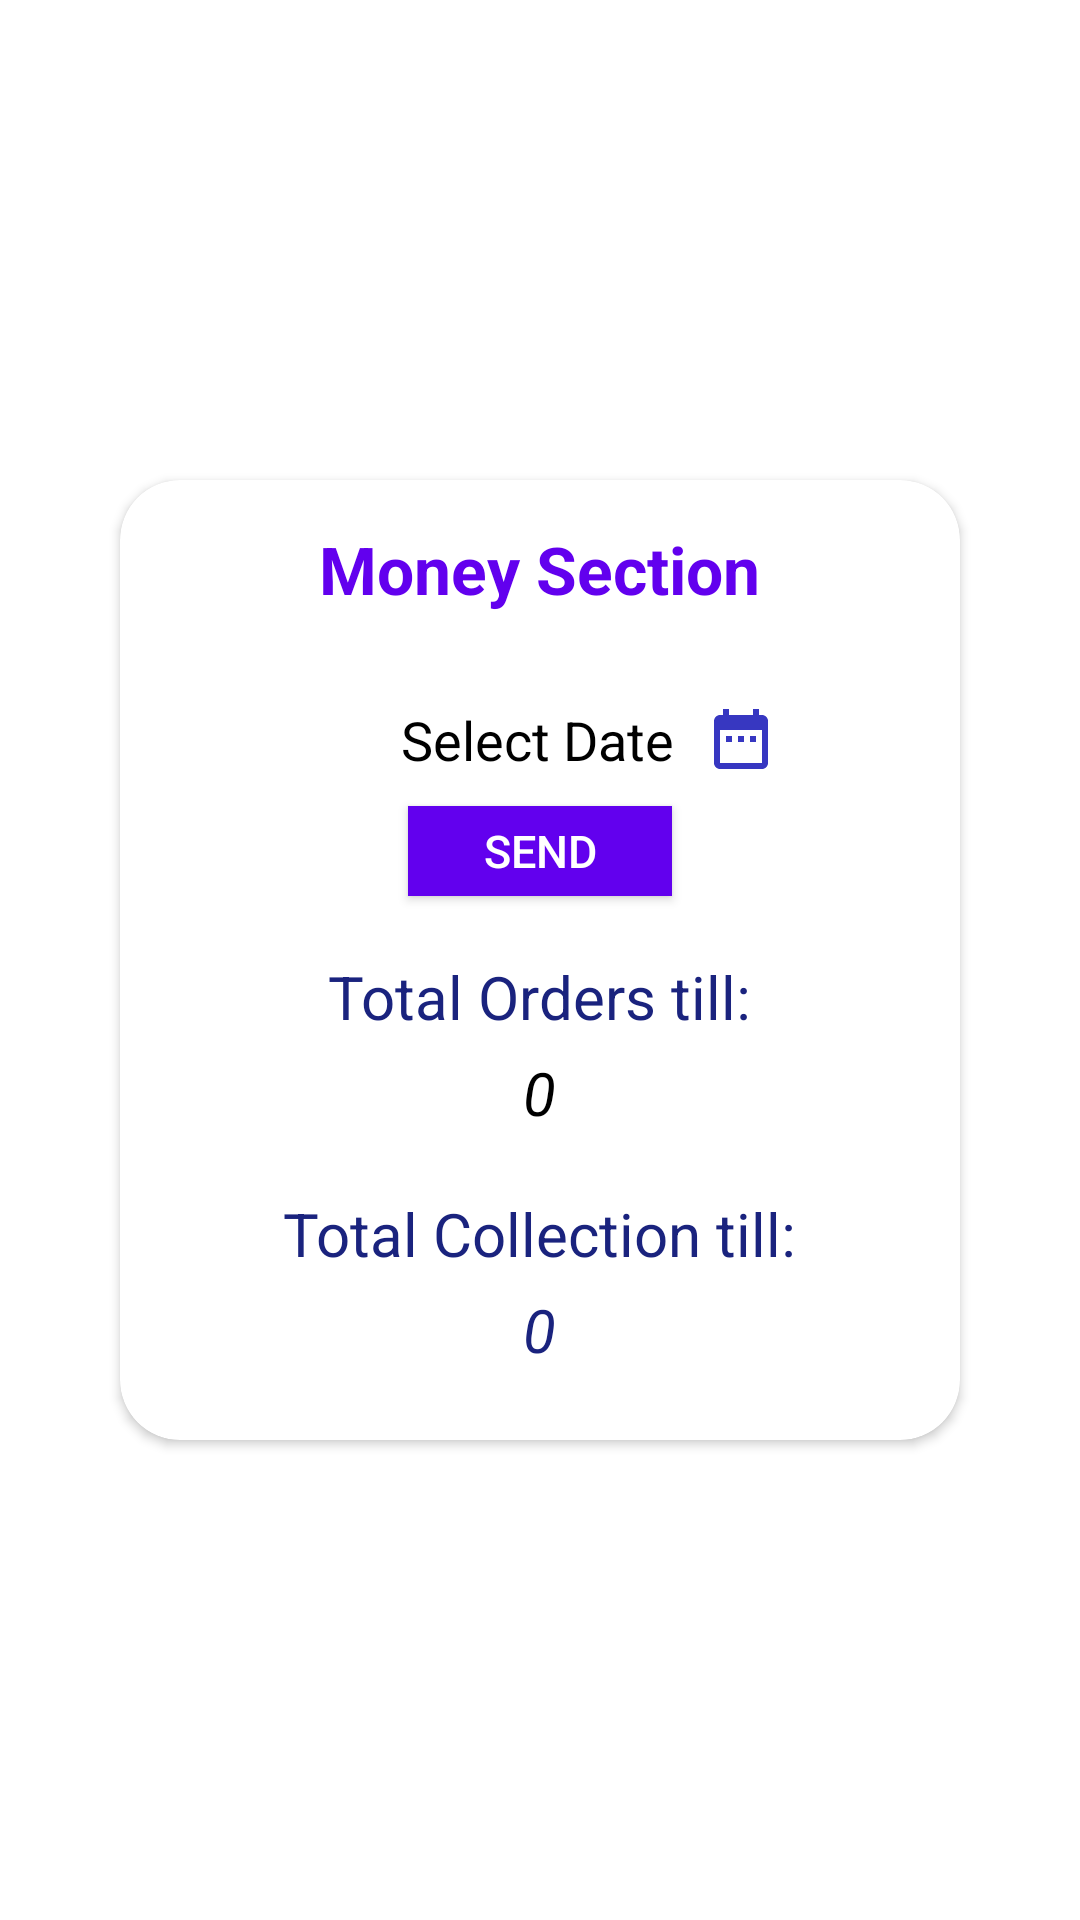

Named icons in this screenshot (1080×1920) and their bounding boxes, BBox(x1, y1, x2, y2):
calander: BBox(714, 709, 768, 769)
